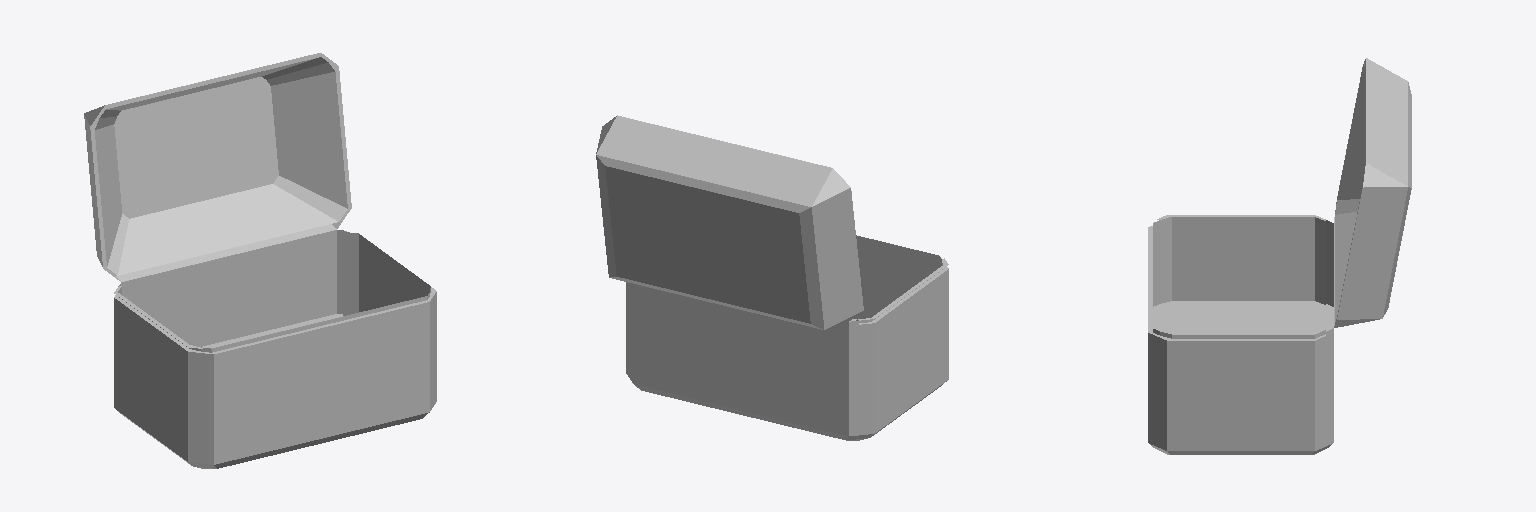
Rendered from lootChest-opened.obj.
3 views of the same model, side by side, from view 1: azimuth 30°, elevation 25°; view 2: azimuth 150°, elevation 25°; view 3: azimuth 270°, elevation 25° (orthographic).
Parts seen in each view (by area): view 1: High_Cube.002; view 2: High_Cube.002; view 3: High_Cube.002.
Part boxes in pixels (x1,y1,x2,y2): High_Cube.002: (84,53,436,468); High_Cube.002: (596,115,948,440); High_Cube.002: (1148,58,1411,454).
Bounding box in the file's own units: 3.1 × 3.47 × 2.84.